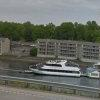Boat: (25, 53, 82, 81)
